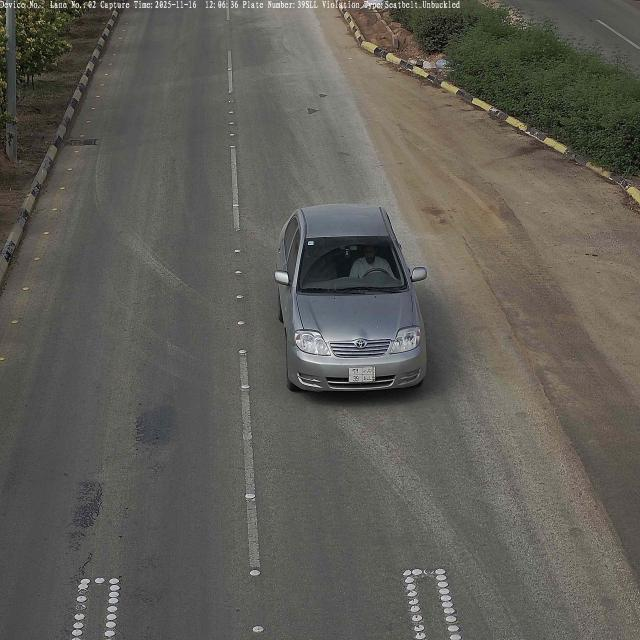person_without_seatbelt: (351, 236, 396, 288)
